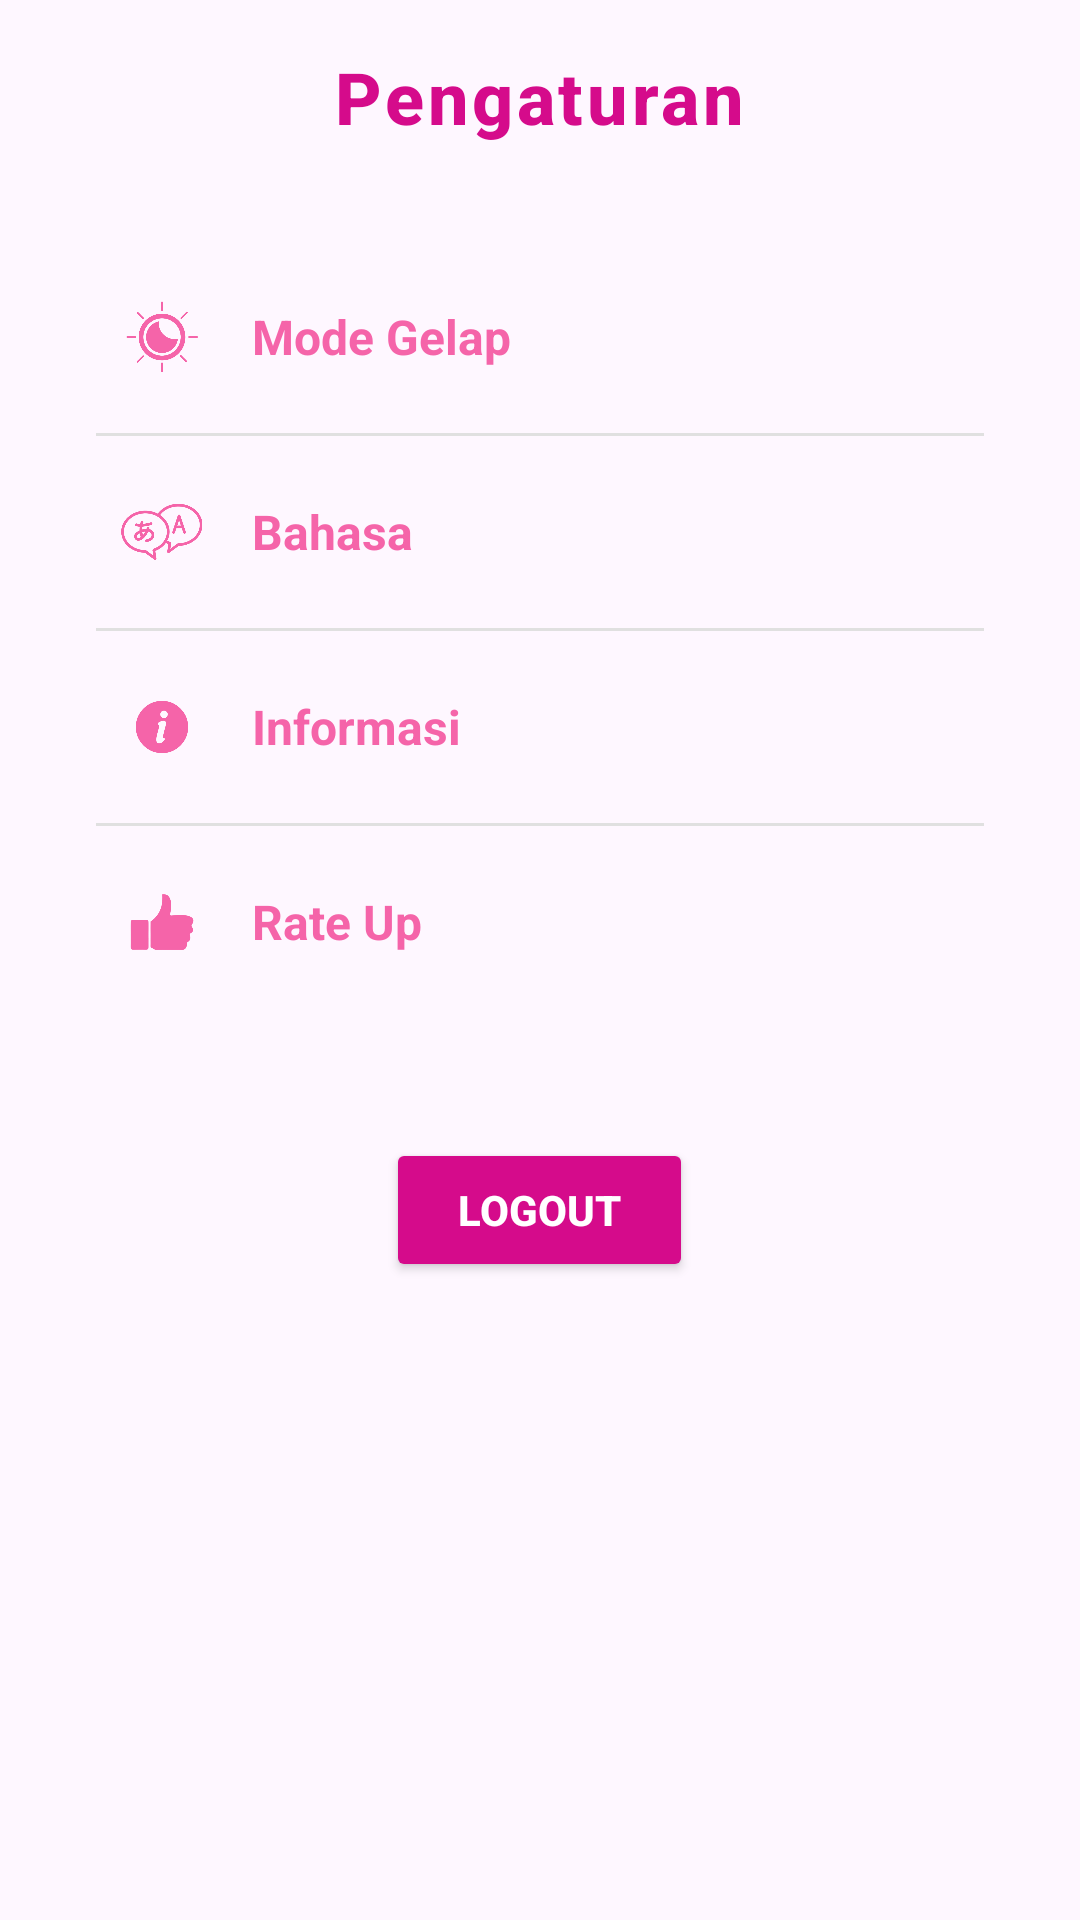

Icon bounding boxes for this 1080 × 1920 phone screenshot, format bbox=(x1, y1, x2, y2):
like: bbox=(131, 894, 194, 950)
